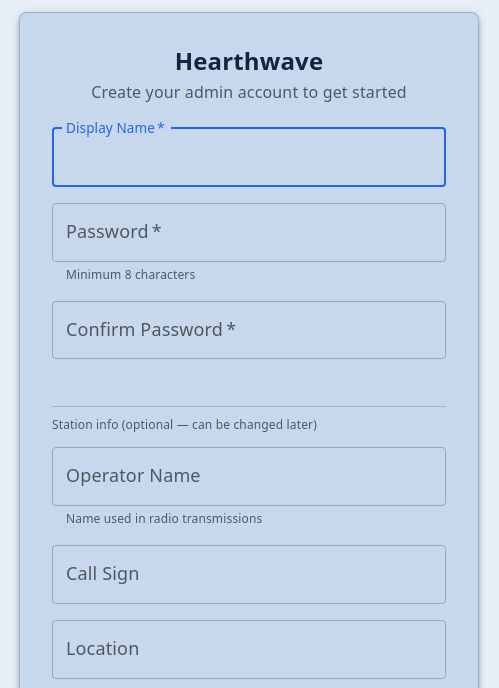
Test: SetupScreen › error display › shows fallback error message when detail is missing
This screenshot has width=499, height=688.
Type "Admin" into the field labelled "Display Name *".
click(249, 157); type("Admin")  # box 52,128 -> 446,187
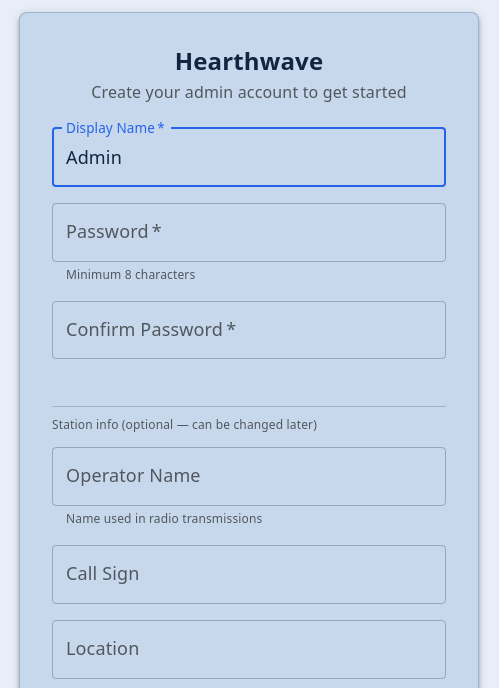
Type "password123" into the password field labelled "Password *".
click(249, 232); type("password123")  # box 52,203 -> 446,262
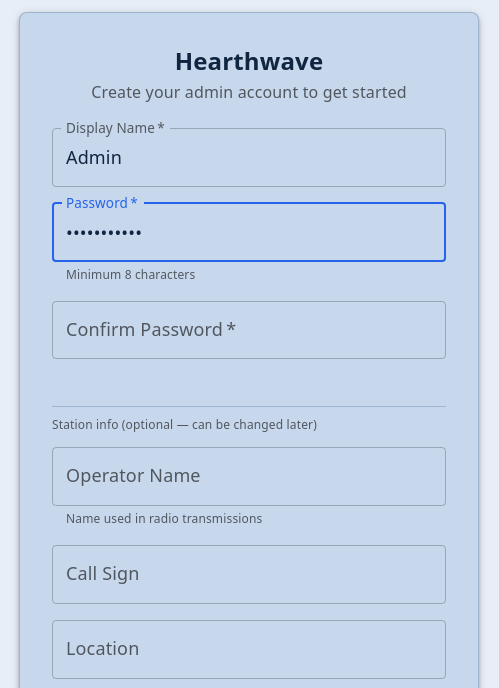
Type "password123" into the password field labelled "Confirm Password *".
click(249, 330); type("password123")  # box 52,300 -> 446,359
(page scrolled)
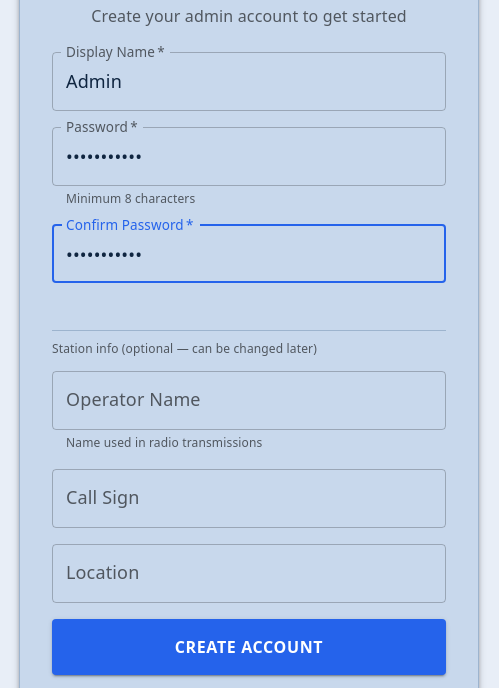
Click the button "Create Account".
click(249, 647)  # box 52,619 -> 446,675
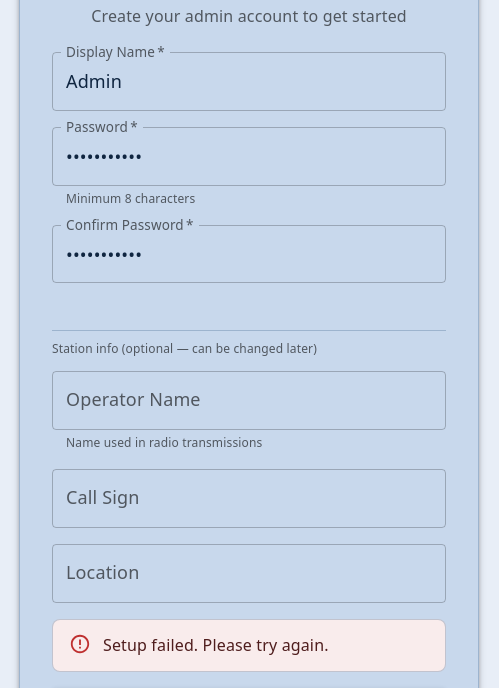
Expected: the text "Setup failed. Please try again." is shown, 103,634 -> 329,656
